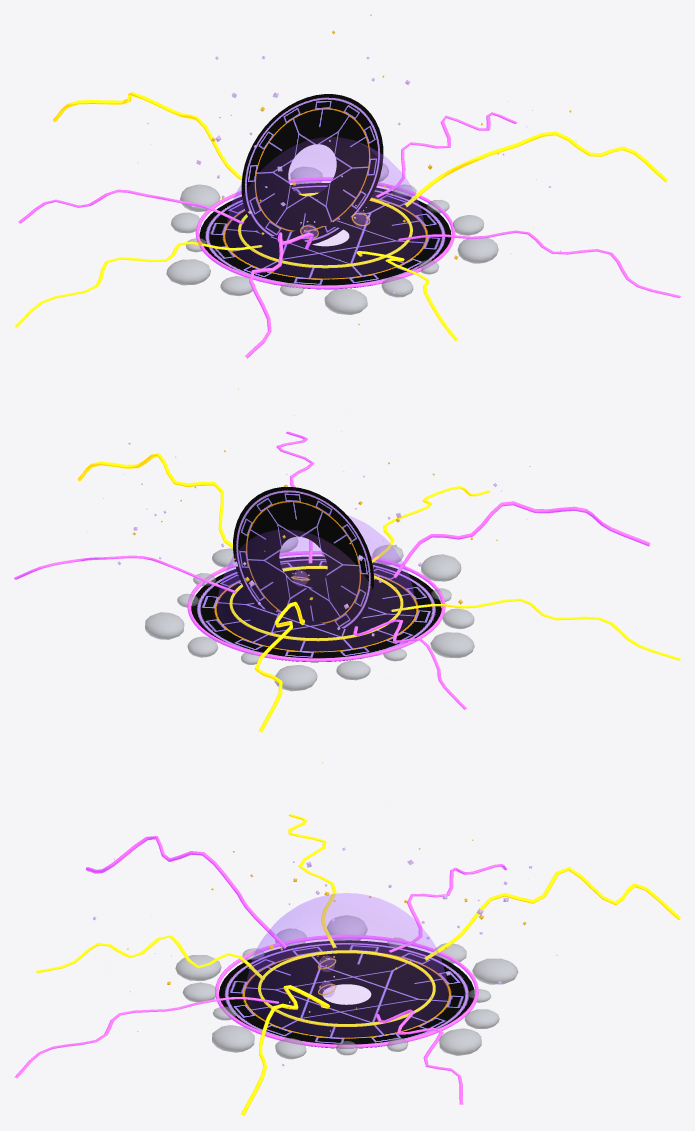
The model's file is arcane-particles-and-effects.glb.
3 renders of one model, top to bottom at view 1: azimuth 30°, elevation 25°; view 2: azimuth 150°, elevation 25°; view 3: azimuth 270°, elevation 25°, orthographic. The views are drawn at different scales.
Parts seen in each view (by area): view 1: Arcane_Deflection_Dome, Back_Halo_Mandala, Ground_Arcane_Mandala, Arcane_Outer_Ring, Arcane_Lightning_Bolt_2, Arcane_Lightning_Bolt_8, Arcane_Lightning_Bolt_3, Arcane_Inner_Ring, Shockwave_Dust_9, Arcane_Lightning_Bolt_6, Shockwave_Dust_6, Arcane_Lightning_Bolt_5 (+7 smaller); view 2: Arcane_Deflection_Dome, Back_Halo_Mandala, Ground_Arcane_Mandala, Arcane_Outer_Ring, Arcane_Lightning_Bolt_5, Arcane_Lightning_Bolt_2, Arcane_Lightning_Bolt_6, Arcane_Inner_Ring, Shockwave_Dust_9, Arcane_Lightning_Bolt_8, Shockwave_Dust_6, Shockwave_Dust_15 (+7 smaller); view 3: Arcane_Deflection_Dome, Ground_Arcane_Mandala, Arcane_Outer_Ring, Arcane_Inner_Ring, Arcane_Lightning_Bolt_8, Arcane_Lightning_Bolt_5, Shockwave_Dust_12, Arcane_Lightning_Bolt_2, Shockwave_Dust_15, Shockwave_Dust_3, Arcane_Lightning_Bolt_3, Arcane_Lightning_Bolt_4 (+8 smaller).
Boxes of the visible parts, x1,y1,x2,y2 form: Arcane_Deflection_Dome: (226, 137, 424, 277); Back_Halo_Mandala: (241, 94, 383, 244); Ground_Arcane_Mandala: (199, 183, 451, 289); Arcane_Outer_Ring: (195, 177, 455, 289); Arcane_Lightning_Bolt_2: (404, 131, 667, 207); Arcane_Lightning_Bolt_8: (53, 92, 242, 180); Arcane_Lightning_Bolt_3: (398, 230, 680, 298); Arcane_Inner_Ring: (238, 192, 412, 268); Shockwave_Dust_9: (166, 259, 210, 285); Arcane_Lightning_Bolt_6: (14, 241, 262, 327); Shockwave_Dust_6: (324, 288, 367, 314); Arcane_Lightning_Bolt_5: (245, 232, 313, 358); Arcane_Deflection_Dome: (217, 515, 414, 650); Back_Halo_Mandala: (233, 487, 373, 629); Ground_Arcane_Mandala: (191, 556, 441, 662); Arcane_Outer_Ring: (187, 551, 445, 661); Arcane_Lightning_Bolt_5: (393, 501, 650, 578); Arcane_Lightning_Bolt_2: (78, 453, 232, 548); Arcane_Lightning_Bolt_6: (391, 598, 680, 660); Arcane_Inner_Ring: (229, 566, 403, 641); Shockwave_Dust_9: (430, 632, 474, 657); Arcane_Lightning_Bolt_8: (254, 601, 304, 732); Shockwave_Dust_6: (421, 554, 461, 581); Shockwave_Dust_15: (145, 612, 184, 639); Arcane_Deflection_Dome: (245, 893, 447, 1036); Ground_Arcane_Mandala: (219, 940, 474, 1048); Arcane_Outer_Ring: (215, 934, 478, 1048); Arcane_Inner_Ring: (258, 950, 435, 1026); Arcane_Lightning_Bolt_8: (424, 867, 680, 960); Arcane_Lightning_Bolt_5: (86, 836, 287, 948); Shockwave_Dust_12: (472, 958, 518, 984); Arcane_Lightning_Bolt_2: (241, 985, 329, 1116); Shockwave_Dust_15: (439, 1028, 481, 1055); Shockwave_Dust_3: (212, 1025, 254, 1052); Arcane_Lightning_Bolt_3: (14, 997, 278, 1078); Arcane_Lightning_Bolt_4: (36, 935, 264, 980).
Size of the model in its own units: 18.17 by 4.56 by 16.4.
Materials: 11 (1 with a texture image).
